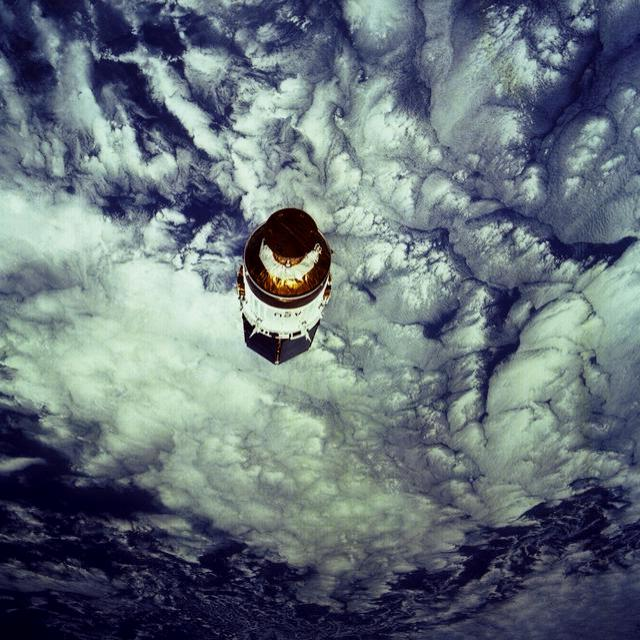medium_debris: (236, 208, 331, 364)
